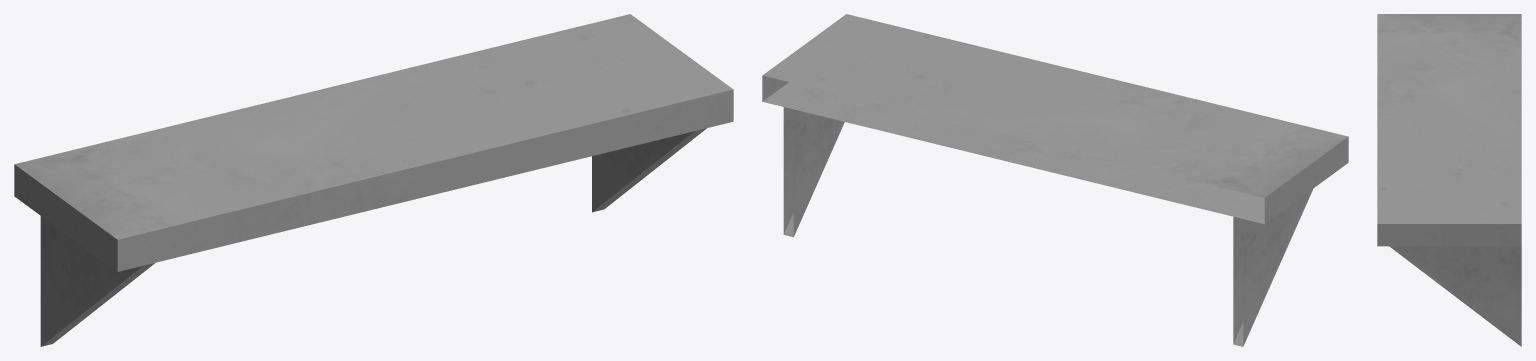
The model's file is KitchenShelf.FBX.
The picture shows the model from 3 angles, left to right: view 1: azimuth 30°, elevation 25°; view 2: azimuth 150°, elevation 25°; view 3: azimuth 270°, elevation 25°; orthographic projection. The views are drawn at different scales.
Parts seen in each view (by area): view 1: KitchenShelf; view 2: KitchenShelf; view 3: KitchenShelf.
Boxes of the visible parts, x1,y1,x2,y2 form: KitchenShelf: (14,14,733,346); KitchenShelf: (762,14,1348,346); KitchenShelf: (1377,14,1521,346).
Size of the model in its own units: 100 by 29.33 by 29.
